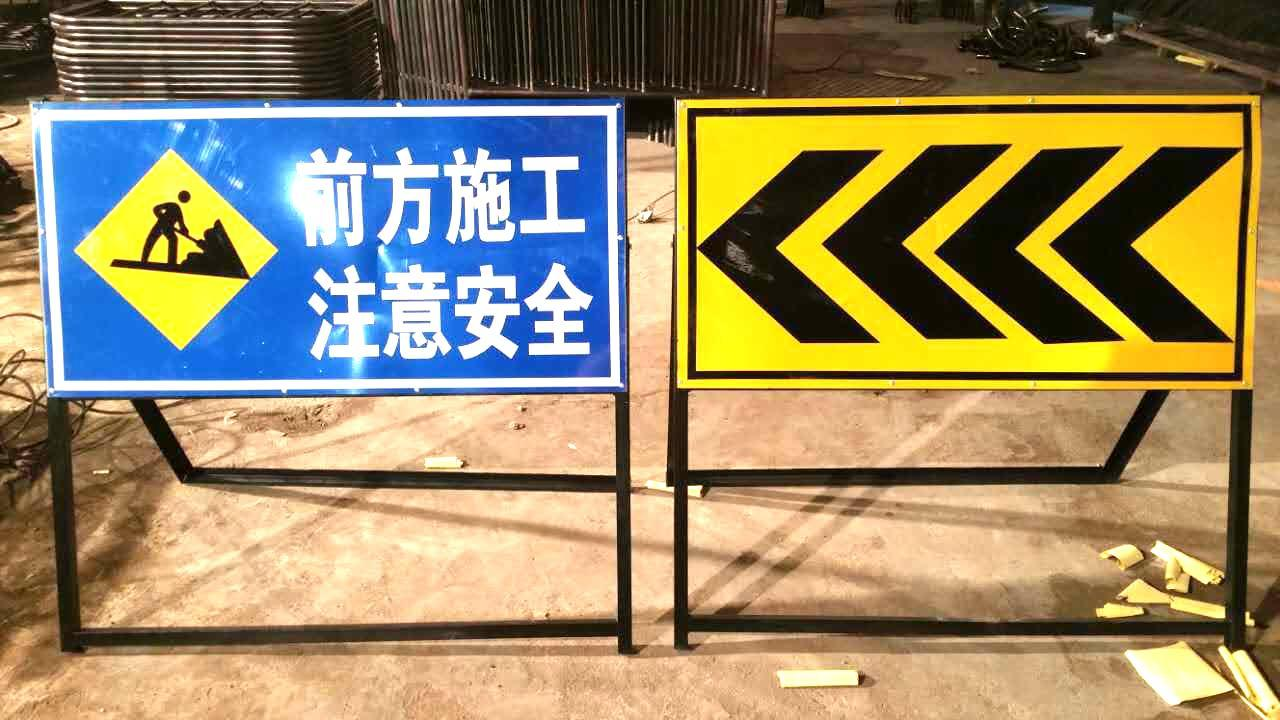sign: (34, 106, 629, 390), (677, 102, 1257, 389)
